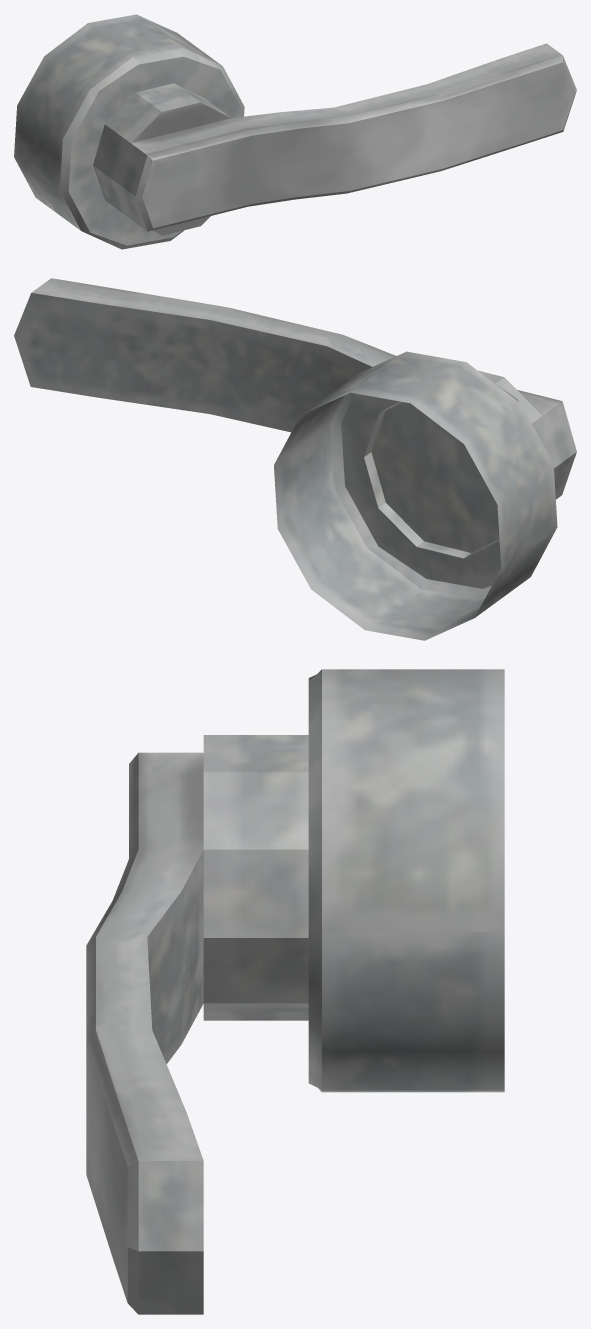
The model's file is NumberPad_Handle.FBX.
3 renders of one model, top to bottom at view 1: azimuth 30°, elevation 25°; view 2: azimuth 150°, elevation 25°; view 3: azimuth 270°, elevation 25°, orthographic. The views are drawn at different scales.
Parts seen in each view (by area): view 1: Pad_Handle; view 2: Pad_Handle; view 3: Pad_Handle.
Part boxes in pixels (x1=…): Pad_Handle: x1=14, y1=14, x2=576, y2=249; Pad_Handle: x1=14, y1=278, x2=576, y2=640; Pad_Handle: x1=86, y1=669, x2=504, y2=1314.
Bounding box in the file's own units: 28.55 × 11.2 × 10.98.
Materials: 1 (1 with a texture image).
